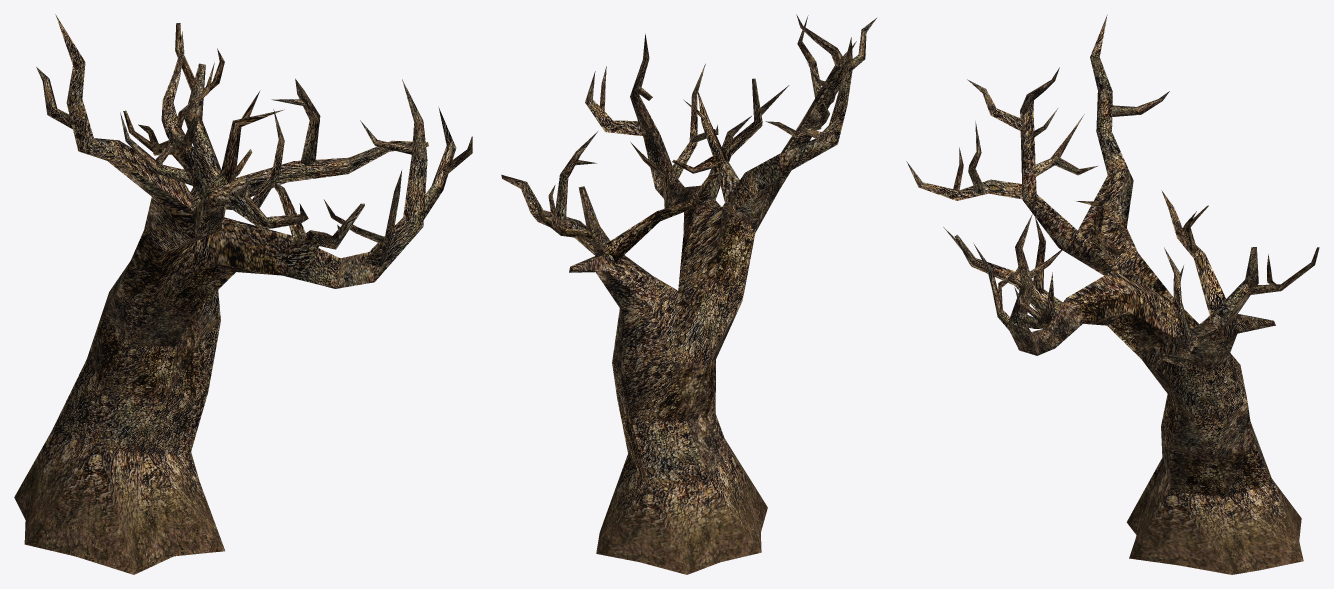
File: hr_tree11.glb
3 views of the same model, side by side, from view 1: azimuth 30°, elevation 25°; view 2: azimuth 150°, elevation 25°; view 3: azimuth 270°, elevation 25° (orthographic). The views are drawn at different scales.
Parts seen in each view (by area): view 1: hr_tree11; view 2: hr_tree11; view 3: hr_tree11.
Part boxes in pixels (bbox=[...]): hr_tree11: bbox=[14, 14, 472, 574]; hr_tree11: bbox=[501, 14, 876, 574]; hr_tree11: bbox=[906, 15, 1319, 574].
Bounding box in the file's own units: 12.63 × 17.81 × 14.11.
Materials: 3 (3 with a texture image).
